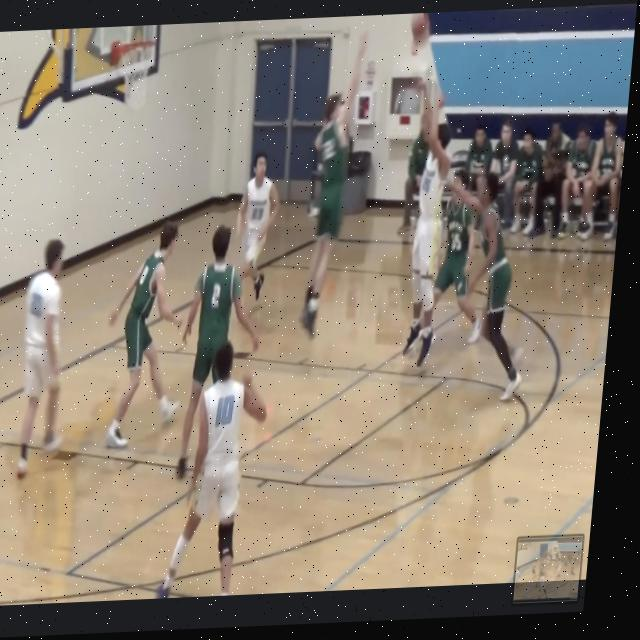basketball: (408, 11, 433, 50)
hoop: (112, 38, 157, 114)
